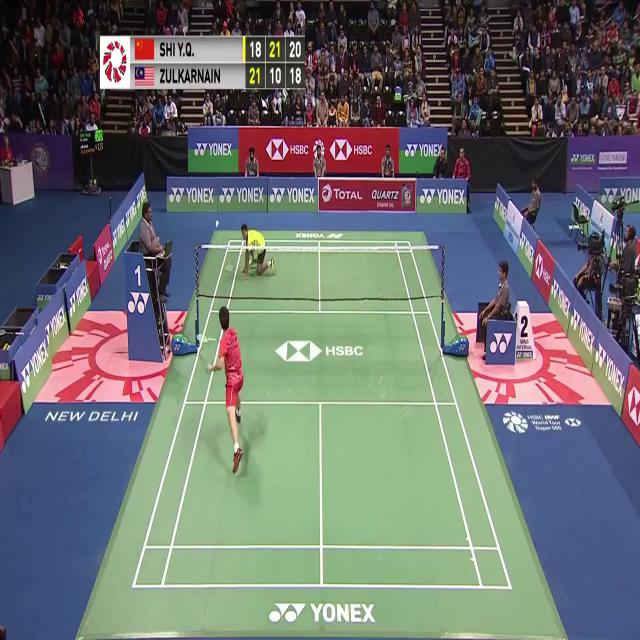Shuttlecock: (213, 220, 220, 232)
